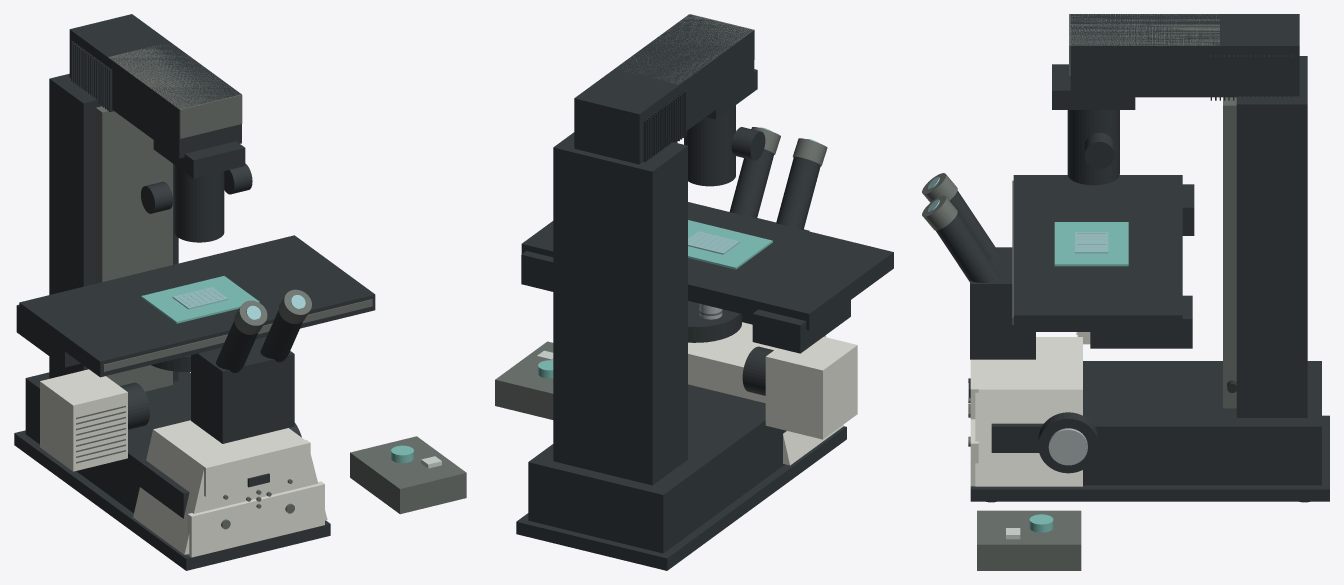
File: nikon-ti2-optical.glb
3 renders of one model, left to right at view 1: azimuth 30°, elevation 25°; view 2: azimuth 150°, elevation 25°; view 3: azimuth 270°, elevation 25°, orthographic. The views are drawn at different scales.
Parts seen in each view (by area): view 1: Stage_457p6, Rear_inner_cover, Lamp_arm, Rear_rising_column, Ivory_tapered_front, Binocular_support, Inactive_camera_shell, Dark_lower_casting, Front_lower_bezel, Separate_virtual_controller, Lamp_hood, Base_240x495p3 (+14 smaller); view 2: Rear_rising_column, Dark_lower_casting, Lamp_arm, Stage_457p6, Inactive_camera_shell, Base_240x495p3, Ivory_tapered_front, Condenser_rack, Separate_virtual_controller, Stage_left_motor, Eyepiece_arm_-37, Lamp_hood (+9 smaller); view 3: Dark_lower_casting, Rear_rising_column, Stage_457p6, Lamp_arm, Ivory_tapered_front, Base_240x495p3, Separate_virtual_controller, Binocular_support, Rear_inner_cover, Lamp_hood, Condenser_rack, Stage_etched_insert (+11 smaller).
Boxes of the visible parts, left/top/right/bottom form: Stage_457p6: left=19, top=235, right=375, bottom=377; Rear_inner_cover: left=96, top=106, right=172, bottom=391; Lamp_arm: left=69, top=14, right=241, bottom=158; Rear_rising_column: left=49, top=73, right=178, bottom=381; Ivory_tapered_front: left=133, top=420, right=327, bottom=554; Binocular_support: left=191, top=337, right=294, bottom=443; Inactive_camera_shell: left=40, top=369, right=127, bottom=471; Dark_lower_casting: left=25, top=371, right=190, bottom=518; Front_lower_bezel: left=187, top=481, right=324, bottom=557; Separate_virtual_controller: left=350, top=436, right=466, bottom=514; Lamp_hood: left=108, top=44, right=242, bottom=138; Base_240x495p3: left=14, top=430, right=330, bottom=570; Rear_rising_column: left=553, top=132, right=687, bottom=485; Dark_lower_casting: left=528, top=384, right=786, bottom=553; Lamp_arm: left=574, top=14, right=754, bottom=164; Stage_457p6: left=521, top=202, right=893, bottom=330; Inactive_camera_shell: left=765, top=337, right=857, bottom=439; Base_240x495p3: left=516, top=426, right=846, bottom=570; Ivory_tapered_front: left=688, top=322, right=843, bottom=465; Condenser_rack: left=684, top=105, right=735, bottom=186; Separate_virtual_controller: left=495, top=341, right=553, bottom=419; Stage_left_motor: left=752, top=300, right=850, bottom=353; Eyepiece_arm_-37: left=776, top=156, right=820, bottom=229; Lamp_hood: left=618, top=14, right=754, bottom=83; Dark_lower_casting: left=991, top=361, right=1321, bottom=485; Rear_rising_column: left=1236, top=56, right=1307, bottom=417; Stage_457p6: left=1013, top=175, right=1182, bottom=331; Lamp_arm: left=1070, top=14, right=1299, bottom=97; Ivory_tapered_front: left=975, top=337, right=1082, bottom=486; Base_240x495p3: left=970, top=415, right=1329, bottom=501; Separate_virtual_controller: left=977, top=510, right=1081, bottom=570; Binocular_support: left=970, top=247, right=1035, bottom=359; Rear_inner_cover: left=1223, top=97, right=1236, bottom=408; Lamp_hood: left=1069, top=14, right=1219, bottom=75; Condenser_rack: left=1067, top=110, right=1119, bottom=185; Stage_etched_insert: left=1054, top=222, right=1128, bottom=266.
Size of the model in its own units: 0.5803 by 0.668 by 0.5624.
